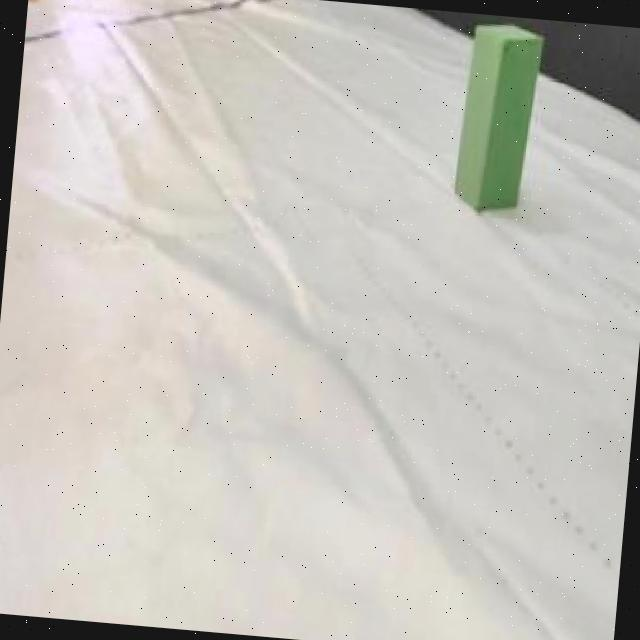greenbox: (452, 19, 546, 214)
